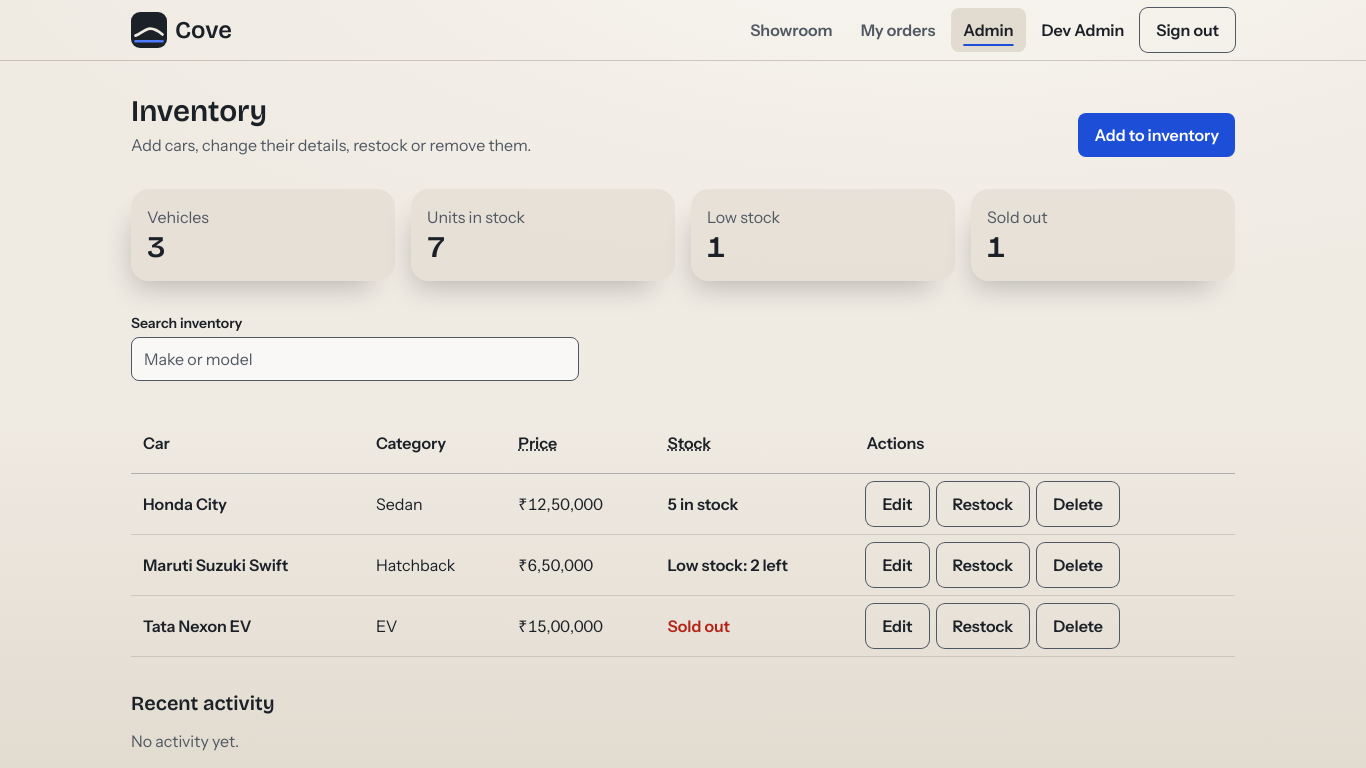
Scenario: summary and table › searches the inventory and sorts by a column, saying which way it is sorted
Check: the heading "Inventory" is shown, box top-left (131, 93), bottom-right (267, 129)
Check: the row "Honda City Sedan ₹12,50,000 5 in stock Edit Restock Delete" is shown, box top-left (131, 474), bottom-right (1235, 534)
Click the button with aria-label "Sort by Price": (540, 443) top-left (518, 421), bottom-right (561, 465)
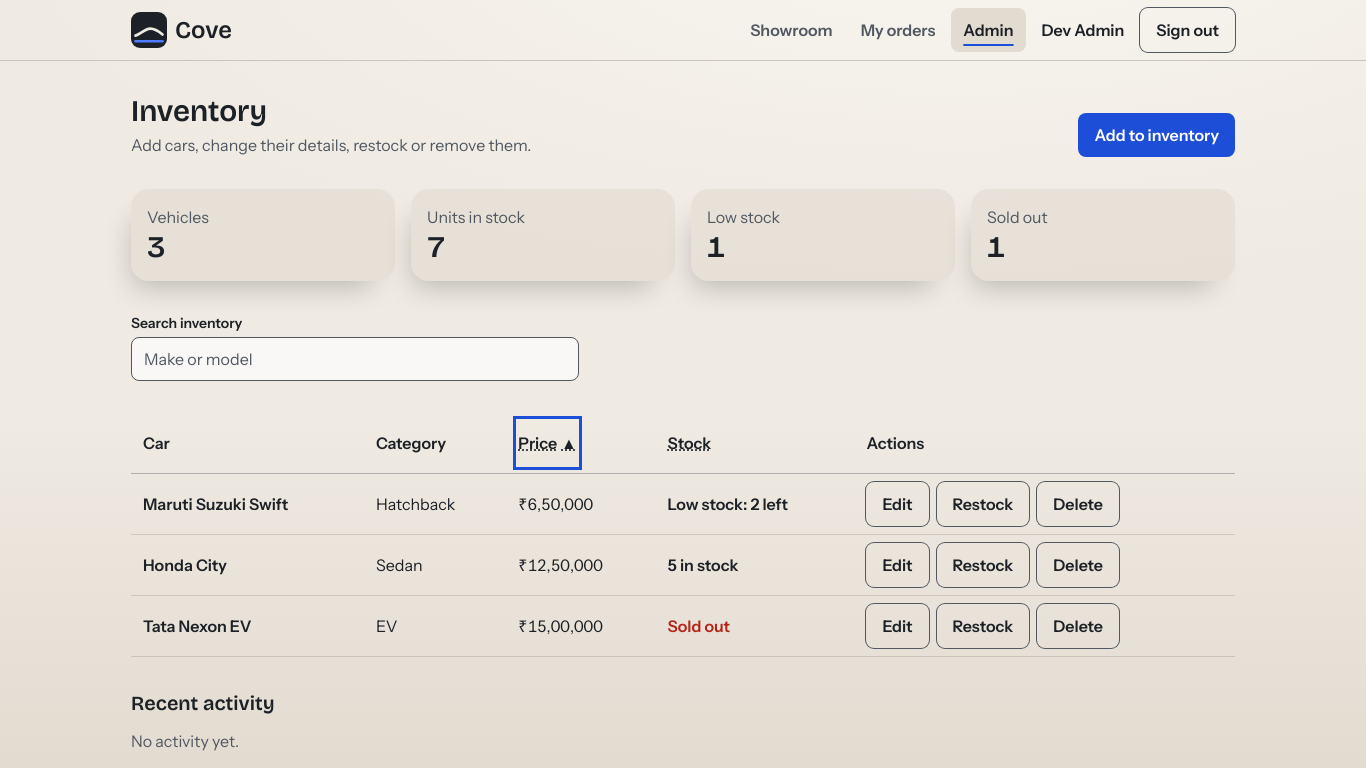
Check: the column heading "Price ▲" has attribute aria-sort="ascending", box top-left (506, 413), bottom-right (656, 474)
Click the button with aria-label "Sort by Price": (548, 443) top-left (518, 421), bottom-right (577, 465)
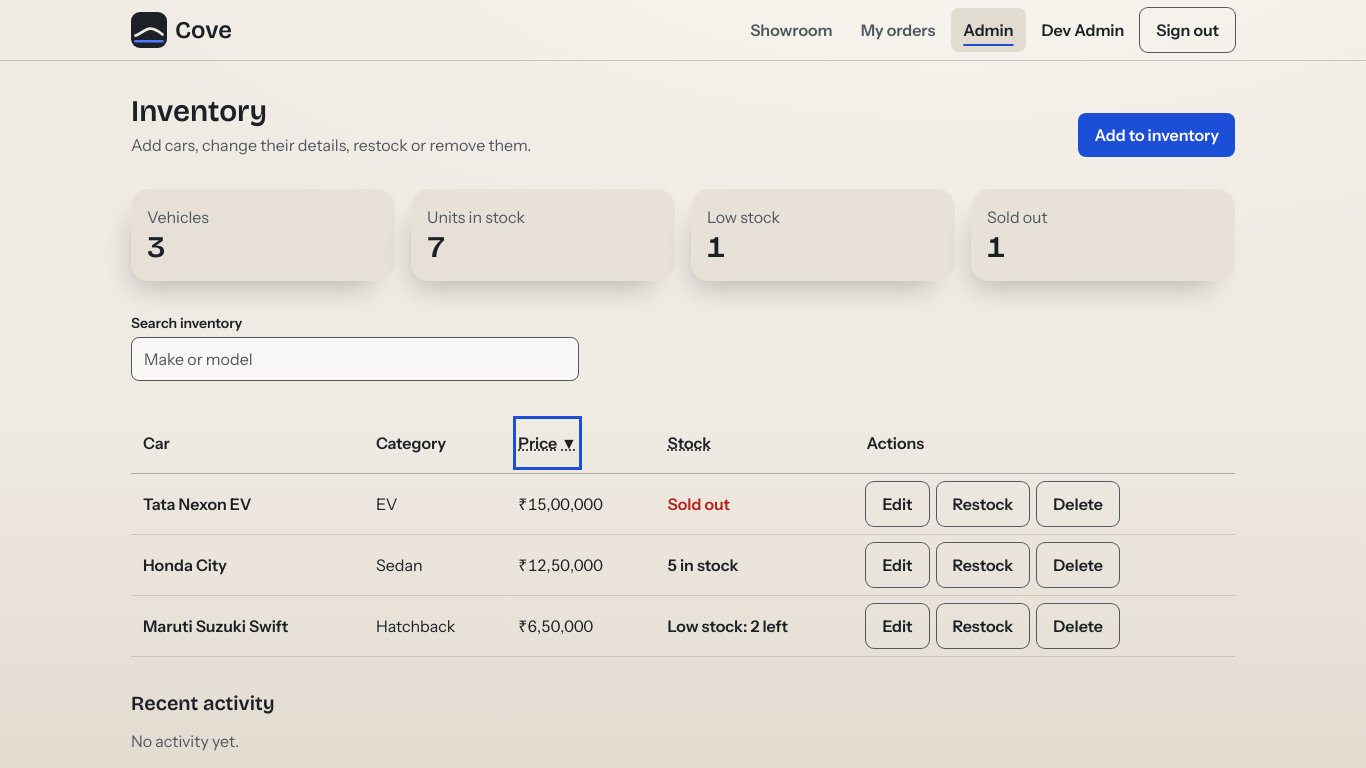
Check: the column heading "Price ▼" has attribute aria-sort="descending", box top-left (506, 413), bottom-right (656, 474)
In the search field labelled "Search inventory": (355, 359) top-left (131, 337), bottom-right (579, 381), type "nexon"
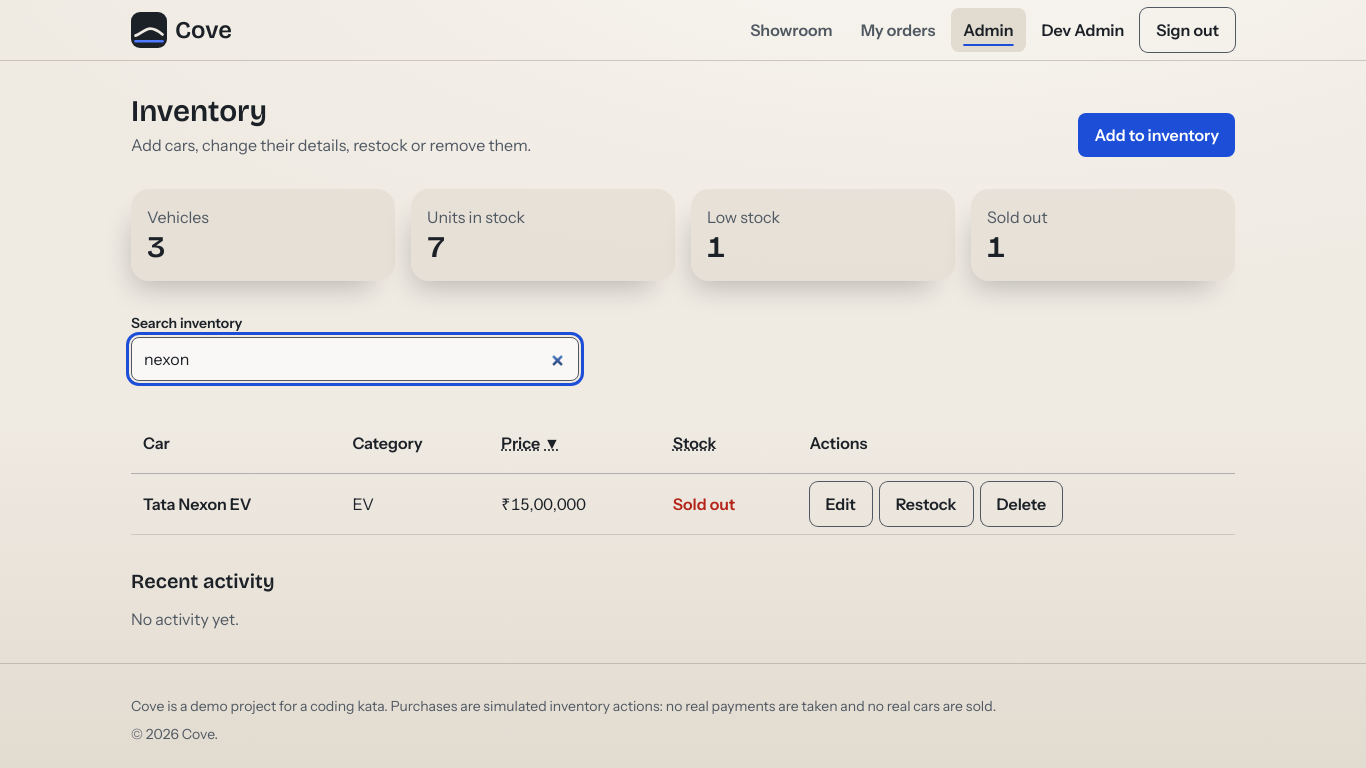
Check: the row "Tata Nexon EV EV ₹15,00,000 Sold out Edit Restock Delete" is shown, box top-left (131, 474), bottom-right (1235, 534)
Check: the column heading "Honda City" is gone
